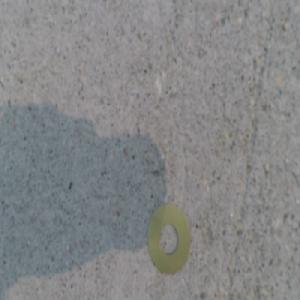Washer: (148, 203, 189, 272)
